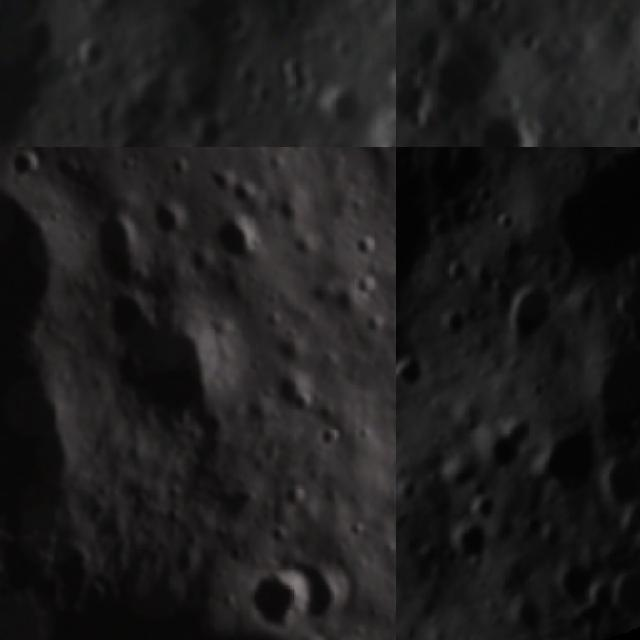crater: (418, 22, 525, 130), (581, 345, 640, 445), (523, 433, 605, 502), (460, 97, 557, 147), (498, 273, 556, 348), (467, 406, 535, 466), (246, 570, 306, 630), (396, 70, 444, 138), (586, 456, 640, 512), (301, 561, 348, 624), (547, 555, 594, 607), (316, 82, 366, 128), (74, 31, 122, 78), (614, 277, 640, 363), (440, 519, 487, 565), (608, 563, 640, 618), (430, 299, 470, 343), (463, 484, 505, 524), (433, 251, 475, 287), (609, 101, 640, 147), (396, 347, 427, 388), (160, 196, 191, 236), (486, 200, 519, 234), (12, 147, 47, 179), (232, 227, 268, 258), (372, 107, 396, 147), (270, 512, 294, 549), (285, 479, 309, 514), (204, 160, 230, 187), (319, 420, 345, 444), (239, 184, 270, 204), (230, 533, 247, 560), (353, 236, 373, 256), (363, 275, 380, 298), (361, 313, 383, 328)
